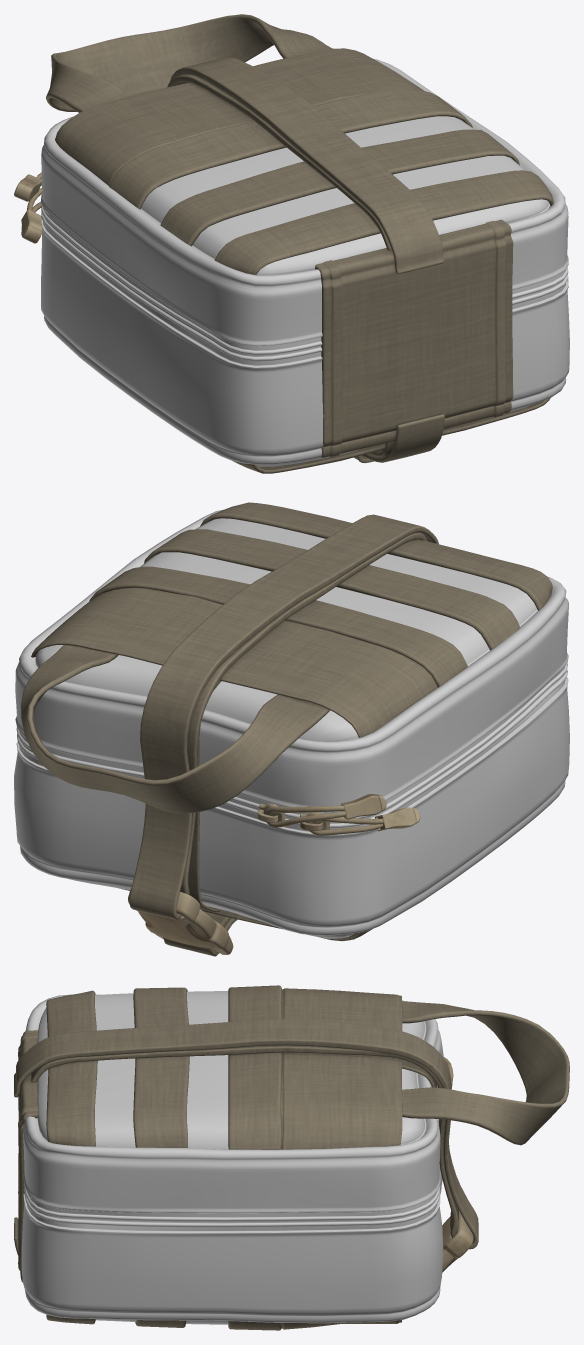
File: Military_Accessory_02.fbx
The picture shows the model from 3 angles, top to bottom: view 1: azimuth 30°, elevation 25°; view 2: azimuth 150°, elevation 25°; view 3: azimuth 270°, elevation 25°; orthographic projection. The views are drawn at different scales.
Parts seen in each view (by area): view 1: BP_main_mesh; view 2: BP_main_mesh; view 3: BP_main_mesh.
Part boxes in pixels (x1,y1,x2,y2): BP_main_mesh: (14, 14, 569, 473); BP_main_mesh: (14, 502, 569, 956); BP_main_mesh: (14, 985, 569, 1330).
Size of the model in its own units: 19.37 by 14.02 by 26.43.
